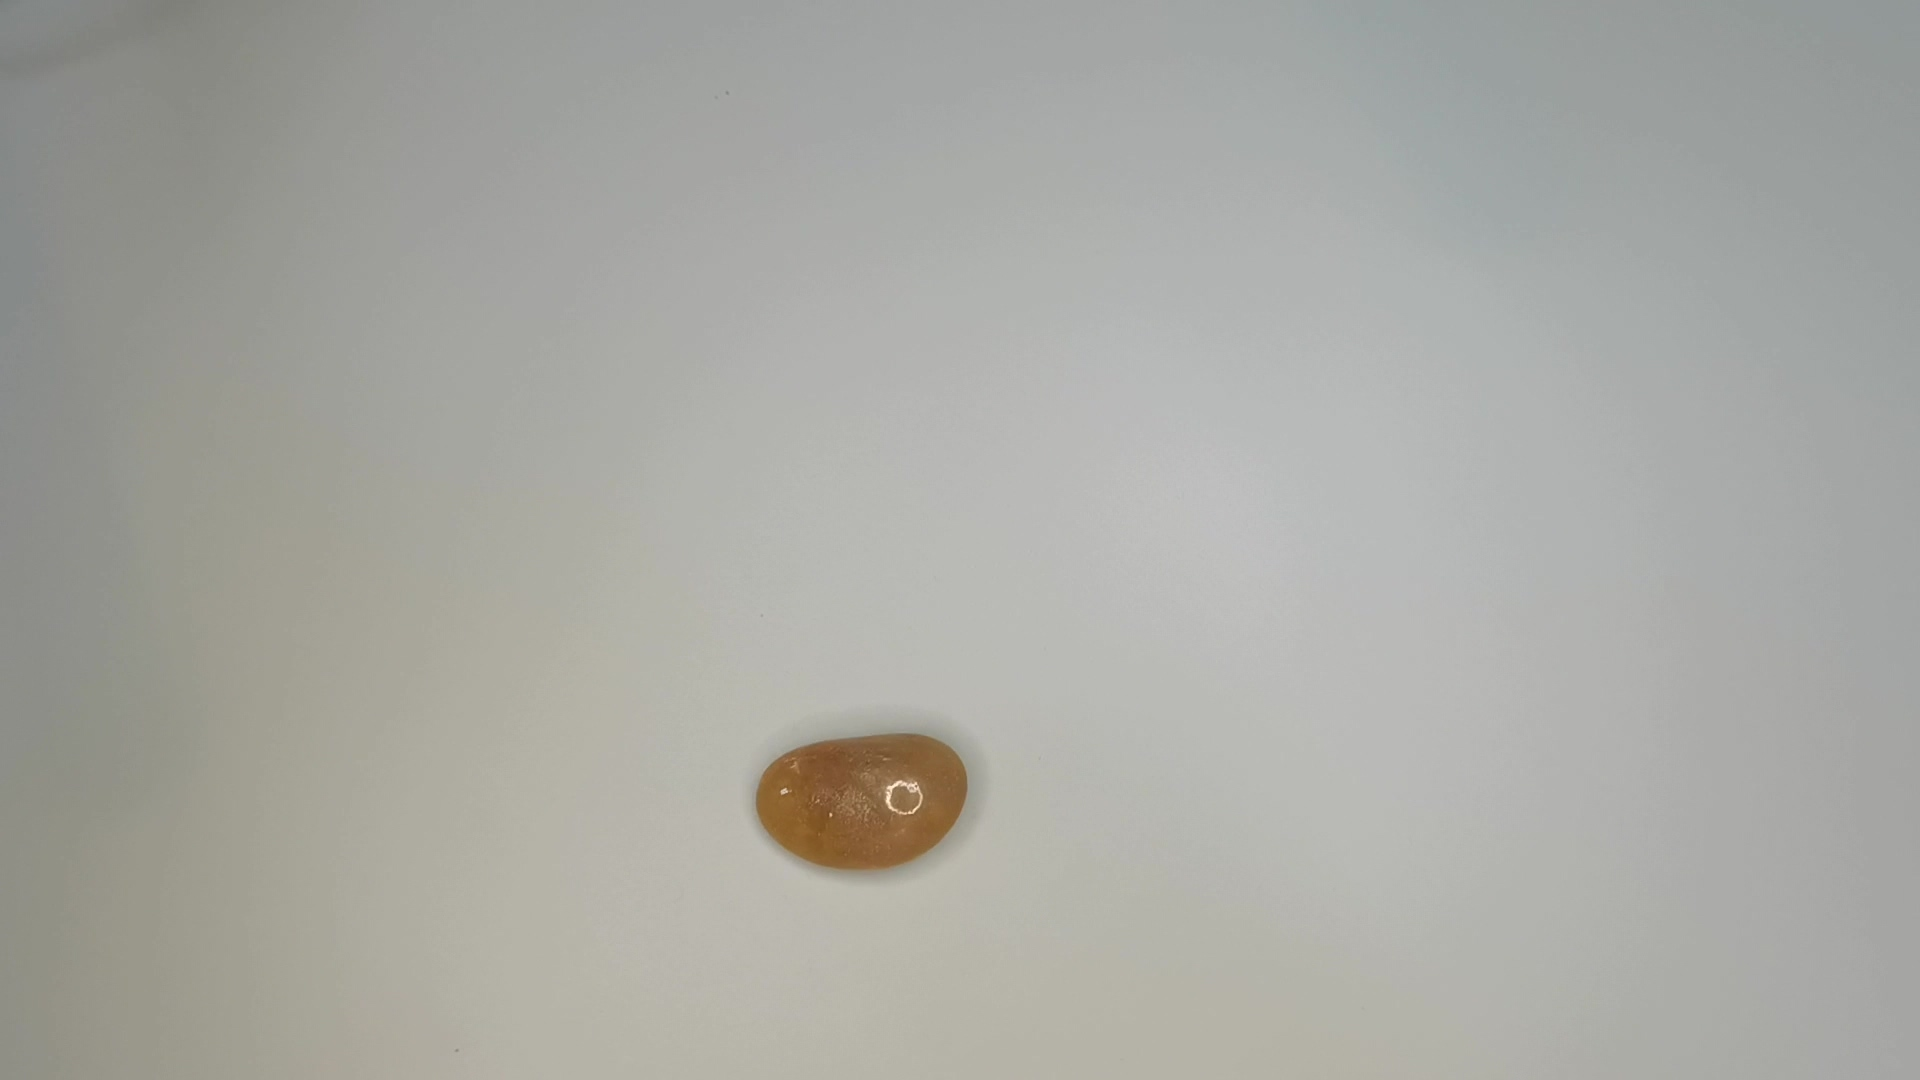ceramic: (746, 728, 978, 882)
